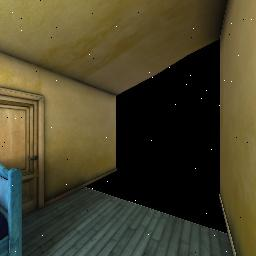door: (0, 99, 51, 204)
